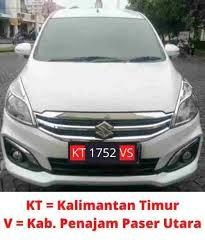plate: (69, 140, 133, 163)
